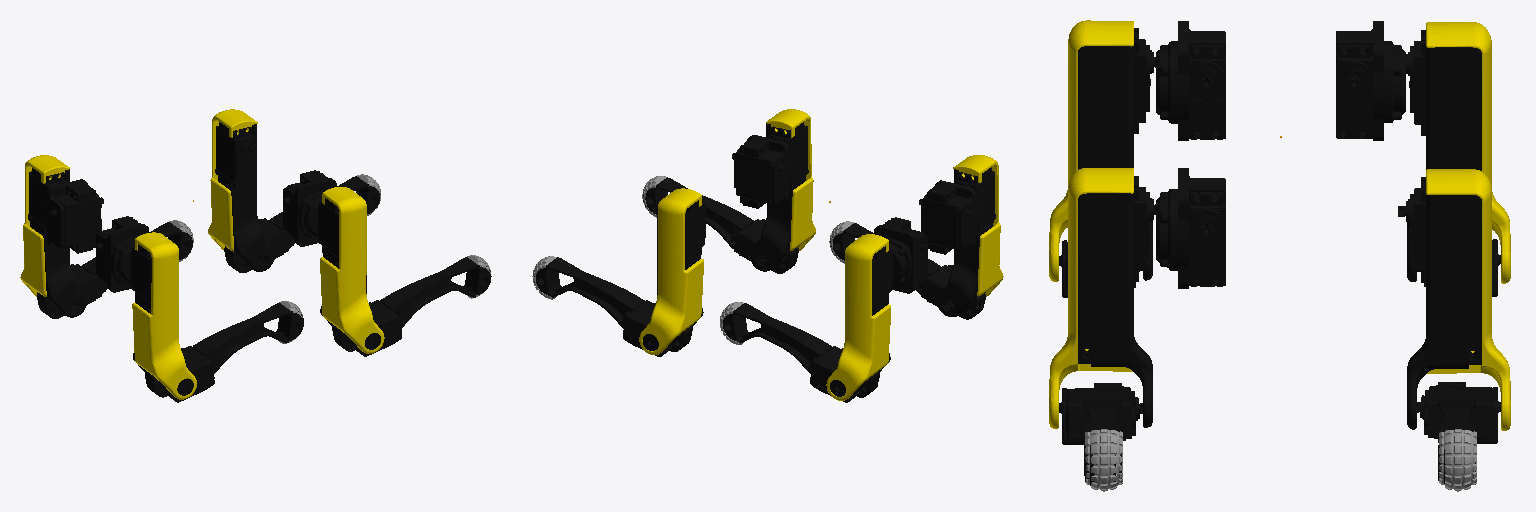
robot.urdf — SpotMicroAI:
<?xml version="1.0" encoding="utf-8"?>
<!-- =================================================================================== -->
<!-- |    This document was autogenerated by xacro from spotmicroai.urdf.xacro         | -->
<!-- |    EDITING THIS FILE BY HAND IS NOT RECOMMENDED                                 | -->
<!-- =================================================================================== -->
<robot name="SpotMicroAI">
  <material name="yellow">
    <color rgba="0.92 0.83 0.0 1"/>
  </material>
  <material name="black">
    <color rgba="0.1 0.1 0.1 1"/>
  </material>
  <material name="grey">
    <color rgba="0.6 0.6 0.6 1"/>
  </material>
  <material name="blue">
    <color rgba="0.0 0.0 0.8 1.0"/>
  </material>
  <material name="green">
    <color rgba="0.0 0.8 0.0 1.0"/>
  </material>
  <!-- Robot Body -->


  <link name="base">
    <visual>
      <origin rpy="0 0 0" xyz="0 0 0"/>
      <geometry>
        <box size="0.001 0.001 0.001"/>
      </geometry>
    </visual>
  </link>

  <joint name="floating_base" type="fixed">
    <origin rpy="0 0 0" xyz="0 0 0"/>
    <parent link="base"/>
    <child link="trunk"/>
  </joint>

  <link name="trunk">
  <visual>
      <geometry>
        <mesh filename="../meshes/body.dae"/>
      </geometry>
    </visual>
    <collision>
      <geometry>
        <mesh filename="../meshes/body.dae"/>
      </geometry>
    </collision>
    <inertial>
      <mass value="16.0"/>
      <inertia ixx="0.0168352186" ixy="0.0004636141" ixz="0.0002367952" iyy="0.0656071082" iyz="3.6671e-05" izz="0.0742720659"/>
    </inertial>
  </link>


  <link name="FL_hip">
   <visual>
      <geometry>
        <mesh filename="../meshes/front_right_hip.dae"/>
      </geometry>
    </visual>
    <collision>
      <geometry>
        <mesh filename="../meshes/front_right_hip.dae"/>
      </geometry>
    </collision>
    <inertial>
      <mass value="2.0"/>
      <inertia ixx="0.0168352186" ixy="0.0004636141" ixz="0.0002367952" iyy="0.0656071082" iyz="3.6671e-05" izz="0.0742720659"/>
    </inertial>
  </link>

  <link name="FL_thigh_cover">
    <visual>
      <geometry>
            <mesh filename="../meshes/larm_cover.dae" scale="0.001 0.001 0.001"/>
      </geometry>
      <origin rpy="0 0 3.1416" xyz="0.134 -0.04 -0.0095"/>
      <material name="yellow"/>
    </visual>
          <inertial>
      <mass value="0"/>
      <inertia ixx="0" ixy="0" ixz="0" iyy="0" iyz="0" izz="0"/>
    </inertial>
  </link>

  <link name="FL_thigh">
    <visual>
      <geometry>
            <mesh filename="../meshes/larm.dae" scale="0.001 0.001 0.001"/>
      </geometry>
      <origin rpy="0 0 3.1416" xyz="0.134 -0.04 -0.0095"/>
      <material name="black"/>
    </visual>
    <collision>
      <origin rpy="0.0 0.0 0.0" xyz="0.0 0.0 -0.050"/>
      <geometry>
        <box size="0.028 0.036 0.109"/>
      </geometry>
    </collision>
    <inertial>
      <mass value="0.15"/>
      <inertia ixx="0.005851561134" ixy="1.783284e-06" ixz="0.000328291374" iyy="0.005596155105" iyz="2.1430713e-05" izz="0.00107157026"/>
    </inertial>
  </link>

  <link name="FL_calf">
    <visual>
      <geometry>
         <mesh filename="../meshes/lfoot.dae" scale="0.001 0.001 0.001"/>
      </geometry>
      <origin rpy="0 0 3.1416 " xyz="0.1195 -0.04 0.099"/>
      <material name="black"/>
    </visual>
    <collision>
      <geometry>
        <box size="0.026 0.020 0.13"/>
      </geometry>
      <origin rpy="0.0 0.0 0.0" xyz="0.0 0.0 -0.050"/>
    </collision>
    <inertial>
      <mass value="0.1"/>
      <inertia ixx="0.002939186297" ixy="1.440899e-06" ixz="-0.00010535955" iyy="0.00295576935" iyz="-2.4397752e-05" izz="3.0273372e-05"/>
    </inertial>
  </link>

  <link name="FL_foot">
    <visual>
      <geometry>
            <mesh filename="../meshes/foot.dae" scale="0.001 0.001 0.001"/>
      </geometry>
      <origin rpy="0 0.40010 0" xyz="0 -0.01 0.015"/>
      <material name="grey"/>
    </visual>
    <collision>
      <geometry>
        <sphere radius="0.02"/>
      </geometry>
      <origin rpy="0 0 0" xyz="0 0 0"/>
    </collision>
    <inertial>
      <mass value="0.05"/>
      <inertia ixx="9.6e-06" ixy="0.0" ixz="0.0" iyy="9.6e-06" iyz="0.0" izz="9.6e-06"/>
    </inertial>
  </link>

  <joint name="FL_hip_joint" type="revolute">
    <parent link="trunk"/>
    <child link="FL_hip"/>
    <axis xyz="1 0 0"/>
    <origin rpy="0 0 0" xyz="0.093 0.0395 0"/>
    <limit effort="23.7" lower="-1.0471975512" upper="1.0471975512" velocity="30.1"/>
    <dynamics damping="0.0" friction="0.0"/>
  </joint>

  <joint name="FL_thigh_joint" type="revolute">
    <parent link="FL_hip"/>
    <child link="FL_thigh"/>
    <axis xyz="0 1 0"/>
    <origin rpy="0 0 0" xyz="0 0.055 0"/>
     <limit effort="23.7" lower="-0.663225115758" upper="2.96705972839" velocity="30.1"/>
    <dynamics damping="0.0" friction="0.0"/>
  </joint>

  <joint name="front_left_leg_cover_joint" type="fixed">
    <parent link="FL_thigh"/>
    <child link="FL_thigh_cover"/>
    <origin xyz="0 0 0"/>
  </joint>

  <joint name="FL_calf_joint" type="revolute">
    <parent link="FL_thigh"/>
    <child link="FL_calf"/>
    <axis xyz="0 1 0"/>
    <origin rpy="0 0 0" xyz="0.014 0 -0.109"/>
    <limit effort="23.7" lower="-2.72271363311" upper="-0.837758040957" velocity="30.1"/>
    <dynamics damping="0.0" friction="0.0"/>
  </joint>

  <joint name="FL_foot_fixed" type="fixed"  dont_collapse="true">
    <parent link="FL_calf"/>
    <child link="FL_foot"/>
    <origin xyz="0 0 -0.13"/>
  </joint>
  <link name="FR_hip">
    <visual>
      <geometry>
            <mesh filename="../meshes/rshoulder.dae" scale="0.001 0.001 0.001"/>
      </geometry>
      <origin rpy="0 0 3.1416" xyz="0.135 0.0938 -0.0205"/>
      <material name="black"/>
    </visual>
    <collision>
      <geometry>
        <box size="0.044 0.038 0.07"/>
      </geometry>
      <origin rpy="0 0 0" xyz="0 0 0"/>
    </collision>
    <inertial>
      <mass value="0.10"/>
      <inertia ixx="0.000374268192" ixy="-3.6844422e-05" ixz="-9.86754e-07" iyy="0.000635923669" iyz="1.172894e-06" izz="0.000457647394"/>
    </inertial>
  </link>

  <link name="FR_thigh_cover">
    <visual>
      <geometry>
            <mesh filename="../meshes/rarm_cover.dae" scale="0.001 0.001 0.001"/>
      </geometry>
      <origin rpy="0 0 3.1416" xyz="0.134 0.149 -0.0095"/>
      <material name="yellow"/>
    </visual>
          <inertial>
      <mass value="0"/>
      <inertia ixx="0" ixy="0" ixz="0" iyy="0" iyz="0" izz="0"/>
    </inertial>
  </link>

  <link name="FR_thigh">
    <visual>
      <geometry>
        <mesh filename="../meshes/rarm.dae" scale="0.001 0.001 0.001"/>
      </geometry>
      <origin rpy="0 0 3.1416" xyz="0.134 0.149 -0.0095"/>
      <material name="black"/>
    </visual>
    <collision>
      <origin rpy="0.0 0.0 0.0" xyz="0.0 0.0 -0.050"/>
      <geometry>
        <box size="0.028 0.036 0.109"/>
      </geometry>
    </collision>
    <inertial>
      <mass value="0.15"/>
      <inertia ixx="0.005851561134" ixy="-1.783284e-06" ixz="0.000328291374" iyy="0.005596155105" iyz="-2.1430713e-05" izz="0.00107157026"/>
    </inertial>
  </link>

  <link name="FR_calf">
    <visual>
      <geometry>
            <mesh filename="../meshes/rfoot.dae" scale="0.001 0.001 0.001"/>
      </geometry>
      <origin rpy="0 0 3.1416" xyz="0.1195 0.149 0.099"/>
      <material name="black"/>
    </visual>
    <collision>
      <geometry>
        <box size="0.026 0.020 0.13"/>
      </geometry>
      <origin rpy="0.0 0.0 0.0" xyz="0.0 0.0 -0.050"/>
    </collision>
    <inertial>
      <mass value="0.1"/>
      <inertia ixx="0.002939186297" ixy="1.440899e-06" ixz="-0.00010535955" iyy="0.00295576935" iyz="-2.4397752e-05" izz="3.0273372e-05"/>
    </inertial>
  </link>

  <link name="FR_foot">
    <visual>
      <geometry>
            <mesh filename="../meshes/foot.dae" scale="0.001 0.001 0.001"/>
      </geometry>
      <origin rpy="0 0.40010 0" xyz="0 -0.01 0.015"/>
      <material name="grey"/>
    </visual>
    <collision>
      <geometry>
        <sphere radius="0.02"/>
      </geometry>
      <origin rpy="0 0 0" xyz="0 0 0"/>
    </collision>
    <inertial>
      <mass value="0.05"/>
      <inertia ixx="9.6e-06" ixy="0.0" ixz="0.0" iyy="9.6e-06" iyz="0.0" izz="9.6e-06"/>
    </inertial>
  </link>

  <joint name="FR_hip_joint" type="revolute">
    <parent link="trunk"/>
    <child link="FR_hip"/>
    <axis xyz="1 0 0"/>
    <origin rpy="0 0 0" xyz="0.093 -0.0395 0"/>
    <limit effort="23.7" lower="-1.0471975512" upper="1.0471975512" velocity="30.1"/>
    <dynamics damping="0.0" friction="0.0"/>
  </joint>

  <joint name="FR_thigh_joint" type="revolute">
    <parent link="FR_hip"/>
    <child link="FR_thigh"/>
    <axis xyz="0 1 0"/>
    <origin rpy="0 0 0" xyz="0 -0.055 0"/>
     <limit effort="23.7" lower="-0.663225115758" upper="2.96705972839" velocity="30.1"/>
    <dynamics damping="0.0" friction="0.0"/>
  </joint>

  <joint name="front_right_leg_cover_joint" type="fixed">
    <parent link="FR_thigh"/>
    <child link="FR_thigh_cover"/>
    <origin xyz="0 0 0"/>
  </joint>
  <joint name="FR_calf_joint" type="revolute">
    <parent link="FR_thigh"/>
    <child link="FR_calf"/>
    <axis xyz="0 1 0"/>
    <origin rpy="0 0 0" xyz="0.014 0 -0.109"/>
    <limit effort="23.7" lower="-2.72271363311" upper="-0.837758040957" velocity="30.1"/>
    <dynamics damping="0.0" friction="0.0"/>
  </joint>
  <joint name="FR_foot_fixed" type="fixed"  dont_collapse="true">
    <parent link="FR_calf"/>
    <child link="FR_foot"/>
    <origin xyz="0 0 -0.13"/>
  </joint>

  <link name="RL_hip">
    <visual>
      <geometry>
                <mesh filename="../meshes/lshoulder.dae" scale="0.001 0.001 0.001"/>
      </geometry>
      <origin rpy="0 0 3.1416" xyz="0.135 0.0163 -0.0195"/>
      <material name="black"/>
    </visual>
    <collision>
      <geometry>
        <box size="0.044 0.038 0.07"/>
      </geometry>
      <origin rpy="0 0 0" xyz="0 0 0"/>
    </collision>
    <inertial>
      <mass value="0.10"/>
      <inertia ixx="0.000374268192" ixy="-3.6844422e-05" ixz="9.86754e-07" iyy="0.000635923669" iyz="-1.172894e-06" izz="0.000457647394"/>
    </inertial>
  </link>

  <link name="RL_thigh_cover">
    <visual>
      <geometry>
        <mesh filename="../meshes/larm_cover.dae" scale="0.001 0.001 0.001"/>
      </geometry>
      <origin rpy="0 0 3.1416" xyz="0.134 -0.04 -0.0095"/>
      <material name="yellow"/>
    </visual>
    <inertial>
      <mass value="0"/>
      <inertia ixx="0" ixy="0" ixz="0" iyy="0" iyz="0" izz="0"/>
    </inertial>
  </link>

  <link name="RL_thigh">
    <visual>
      <geometry>
            <mesh filename="../meshes/larm.dae" scale="0.001 0.001 0.001"/>
      </geometry>
      <origin rpy="0 0 3.1416" xyz="0.134 -0.04 -0.0095"/>
      <material name="black"/>
    </visual>
    <collision>
      <origin rpy="0.0 0.0 0.0" xyz="0.0 0.0 -0.050"/>
      <geometry>
        <box size="0.028 0.036 0.109"/>
      </geometry>
    </collision>
    <inertial>
      <mass value="0.15"/>
      <inertia ixx="0.005851561134" ixy="1.783284e-06" ixz="0.000328291374" iyy="0.005596155105" iyz="2.1430713e-05" izz="0.00107157026"/>
    </inertial>
  </link>

  <link name="RL_calf">
    <visual>
      <geometry>
           <mesh filename="../meshes/lfoot.dae" scale="0.001 0.001 0.001"/>
      </geometry>
      <origin rpy="0 0 3.1416 " xyz="0.1195 -0.04 0.099"/>
      <material name="black"/>
    </visual>
    <collision>
      <geometry>
        <box size="0.026 0.020 0.13"/>
      </geometry>
      <origin rpy="0.0 0.0 0.0" xyz="0.0 0.0 -0.050"/>
    </collision>
    <inertial>
      <mass value="0.1"/>
      <inertia ixx="0.002939186297" ixy="1.440899e-06" ixz="-0.00010535955" iyy="0.00295576935" iyz="-2.4397752e-05" izz="3.0273372e-05"/>
    </inertial>
  </link>

  <link name="RL_foot">
    <visual>
      <geometry>
                <mesh filename="../meshes/foot.dae" scale="0.001 0.001 0.001"/>
      </geometry>
      <origin rpy="0 0.40010 0" xyz="0 -0.01 0.015"/>
      <material name="grey"/>
    </visual>
    <collision>
      <geometry>
        <sphere radius="0.02"/>
      </geometry>
      <origin rpy="0 0 0" xyz="0 0 0"/>
    </collision>
    <inertial>
      <mass value="0.05"/>
      <inertia ixx="9.6e-06" ixy="0.0" ixz="0.0" iyy="9.6e-06" iyz="0.0" izz="9.6e-06"/>
    </inertial>
  </link>

  <joint name="RL_hip_joint" type="revolute">
    <parent link="trunk"/>
    <child link="RL_hip"/>
    <axis xyz="1 0 0"/>
    <origin rpy="0 0 0" xyz="-0.093 0.0395 0"/>
    <limit effort="23.7" lower="-1.0471975512" upper="1.0471975512" velocity="30.1"/>
    <dynamics damping="0.0" friction="0.0"/>
  </joint>
  <joint name="RL_thigh_joint" type="revolute">
    <parent link="RL_hip"/>
    <child link="RL_thigh"/>
    <axis xyz="0 1 0"/>
    <origin rpy="0 0 0" xyz="0 0.055 0"/>
     <limit effort="23.7" lower="-0.663225115758" upper="2.96705972839" velocity="30.1"/>
    <dynamics damping="0.0" friction="0.0"/>
  </joint>
  <joint name="rear_left_leg_cover_joint" type="fixed">
    <parent link="RL_thigh"/>
    <child link="RL_thigh_cover"/>
    <origin xyz="0 0 0"/>
  </joint>
  <joint name="RL_calf_joint" type="revolute">
    <parent link="RL_thigh"/>
    <child link="RL_calf"/>
    <axis xyz="0 1 0"/>
    <origin rpy="0 0 0" xyz="0.014 0 -0.109"/>
    <limit effort="23.7" lower="-2.72271363311" upper="-0.837758040957" velocity="30.1"/>
    <dynamics damping="0.0" friction="0.0"/>
  </joint>
  <joint name="RL_foot_fixed" type="fixed" dont_collapse="true">
    <parent link="RL_calf"/>
    <child link="RL_foot"/>
    <origin xyz="0 0 -0.13"/>
  </joint>
  <link name="RR_hip">
    <visual>
      <geometry>
        <mesh filename="../meshes/rshoulder.dae" scale="0.001 0.001 0.001"/>
      </geometry>
      <origin rpy="0 0 3.1416" xyz="0.135 0.0938 -0.0205"/>
      <material name="black"/>
    </visual>
    <collision>
      <geometry>
        <box size="0.044 0.038 0.07"/>
      </geometry>
      <origin rpy="0 0 0" xyz="0 0 0"/>
    </collision>
    <inertial>
      <mass value="0.10"/>
      <inertia ixx="0.000374268192" ixy="3.6844422e-05" ixz="9.86754e-07" iyy="0.000635923669" iyz="1.172894e-06" izz="0.000457647394"/>    </inertial>
  </link>

  <link name="RR_thigh_cover">
    <visual>
      <geometry>
         <mesh filename="../meshes/rarm_cover.dae" scale="0.001 0.001 0.001"/>
      </geometry>
      <origin rpy="0 0 3.1416" xyz="0.134 0.149 -0.0095"/>
      <material name="yellow"/>
    </visual>
          <inertial>
      <mass value="0"/>
      <inertia ixx="0" ixy="0" ixz="0" iyy="0" iyz="0" izz="0"/>
    </inertial>
  </link>

  <link name="RR_thigh">
    <visual>
      <geometry>
            <mesh filename="../meshes/rarm.dae" scale="0.001 0.001 0.001"/>
      </geometry>
      <origin rpy="0 0 3.1416" xyz="0.134 0.149 -0.0095"/>
      <material name="black"/>
    </visual>
    <collision>
      <origin rpy="0.0 0.0 0.0" xyz="0.0 0.0 -0.050"/>
      <geometry>
        <box size="0.028 0.036 0.109"/>
      </geometry>
    </collision>
    <inertial>
      <mass value="0.15"/>
      <inertia ixx="0.005851561134" ixy="-1.783284e-06" ixz="0.000328291374" iyy="0.005596155105" iyz="-2.1430713e-05" izz="0.00107157026"/>
    </inertial>
  </link>

  <link name="RR_calf">
    <visual>
      <geometry>
          <mesh filename="../meshes/rfoot.dae" scale="0.001 0.001 0.001"/>
      </geometry>
      <origin rpy="0 0 3.1416" xyz="0.1195 0.149 0.099"/>
      <material name="black"/>
    </visual>
    <collision>
      <geometry>
        <box size="0.026 0.020 0.13"/>
      </geometry>
      <origin rpy="0.0 0.0 0.0" xyz="0.0 0.0 -0.050"/>
    </collision>
    <inertial>
      <mass value="0.1"/>
      <inertia ixx="0.002939186297" ixy="1.440899e-06" ixz="-0.00010535955" iyy="0.00295576935" iyz="-2.4397752e-05" izz="3.0273372e-05"/>
    </inertial>
  </link>

  <link name="RR_foot">
    <visual>
      <geometry>
            <mesh filename="../meshes/foot.dae" scale="0.001 0.001 0.001"/>
      </geometry>
      <origin rpy="0 0.40010 0" xyz="0 -0.01 0.015"/>
      <material name="grey"/>
    </visual>
    <collision>
      <geometry>
        <sphere radius="0.02"/>
      </geometry>
      <origin rpy="0 0 0" xyz="0 0 0"/>
    </collision>
    <inertial>
      <mass value="0.05"/>
      <inertia ixx="9.6e-06" ixy="0.0" ixz="0.0" iyy="9.6e-06" iyz="0.0" izz="9.6e-06"/>
    </inertial>
  </link>

  <joint name="RR_hip_joint" type="revolute">
    <parent link="trunk"/>
    <child link="RR_hip"/>
    <axis xyz="1 0 0"/>
    <origin rpy="0 0 0" xyz="-0.093 -0.0395 0"/>
    <limit effort="23.7" lower="-1.0471975512" upper="1.0471975512" velocity="30.1"/>
    <dynamics damping="0.0" friction="0.0"/>
  </joint>

  <joint name="RR_thigh_joint" type="revolute">
    <parent link="RR_hip"/>
    <child link="RR_thigh"/>
    <axis xyz="0 1 0"/>
    <origin rpy="0 0 0" xyz="0 -0.055 0"/>
     <limit effort="23.7" lower="-0.663225115758" upper="2.96705972839" velocity="30.1"/>
    <dynamics damping="0.0" friction="0.0"/>
  </joint>
  <joint name="rear_right_leg_cover_joint" type="fixed">
    <parent link="RR_thigh"/>
    <child link="RR_thigh_cover"/>
    <origin xyz="0 0 0"/>
  </joint>
  <joint name="RR_calf_joint" type="revolute">
    <parent link="RR_thigh"/>
    <child link="RR_calf"/>
    <axis xyz="0 1 0"/>
    <origin rpy="0 0 0" xyz="0.014 0 -0.109"/>
    <limit effort="23.7" lower="-2.72271363311" upper="-0.837758040957" velocity="30.1"/>
    <dynamics damping="0.0" friction="0.0"/>
  </joint>

  <joint name="RR_foot_fixed" type="fixed"  dont_collapse="true">
    <parent link="RR_calf"/>
    <child link="RR_foot"/>
    <origin xyz="0 0 -0.13"/>
  </joint>
</robot>

--- Facts derived from the render (not from the file) ---
Views: 3 orthographic renders of the robot side by side, from view 1: azimuth 30°, elevation 25°; view 2: azimuth 150°, elevation 25°; view 3: azimuth 270°, elevation 25°.
Robot: SpotMicroAI — 22 links, 21 joints (12 revolute, 9 fixed); root link base; default pose: joints at zero except 4 at the middle of their limits (FL_calf_joint = -1.78, FR_calf_joint = -1.78, RL_calf_joint = -1.78, RR_calf_joint = -1.78).
Links seen in each view (by area): view 1: FR_thigh_cover, RR_thigh_cover, FL_thigh, RR_calf, FR_calf, RL_hip, RL_thigh, RR_hip, FR_hip, RL_thigh_cover, FL_thigh_cover, RL_calf (+3 smaller); view 2: RL_thigh_cover, FL_thigh_cover, FL_calf, RL_calf, FR_hip, RR_hip, FR_thigh, RR_thigh, FR_calf, RL_hip, RR_thigh_cover, FR_thigh_cover (+3 smaller); view 3: FL_thigh, FR_thigh, RR_thigh, RL_thigh, FR_hip, RR_hip, RL_hip, FL_thigh_cover, FR_thigh_cover, FR_calf, FL_calf, RL_thigh_cover (+3 smaller).
Link boxes in pixels (x1,y1,x2,y2): FR_thigh_cover: [320, 187, 384, 353]; RR_thigh_cover: [132, 232, 196, 399]; FL_thigh: [215, 122, 274, 271]; RR_calf: [145, 303, 303, 402]; FR_calf: [332, 257, 491, 356]; RL_hip: [44, 179, 103, 253]; RL_thigh: [28, 168, 86, 317]; RR_hip: [96, 216, 149, 292]; FR_hip: [283, 170, 336, 246]; RL_thigh_cover: [20, 155, 69, 296]; FL_thigh_cover: [208, 109, 257, 251]; RL_calf: [37, 222, 192, 318]; RL_thigh_cover: [826, 234, 890, 400]; FL_thigh_cover: [639, 188, 703, 354]; FL_calf: [534, 257, 692, 356]; RL_calf: [721, 303, 879, 402]; FR_hip: [732, 135, 791, 208]; RR_hip: [919, 180, 978, 254]; FR_thigh: [750, 122, 808, 271]; RR_thigh: [937, 167, 995, 316]; FR_calf: [643, 177, 798, 273]; RL_hip: [874, 217, 927, 293]; RR_thigh_cover: [953, 155, 1003, 296]; FR_thigh_cover: [766, 109, 815, 250]; FL_thigh: [1398, 177, 1481, 429]; FR_thigh: [1078, 176, 1155, 427]; RR_thigh: [1078, 28, 1155, 280]; RL_thigh: [1406, 30, 1481, 281]; FR_hip: [1156, 168, 1225, 288]; RR_hip: [1156, 21, 1225, 140]; RL_hip: [1336, 21, 1405, 140]; FL_thigh_cover: [1426, 169, 1510, 430]; FR_thigh_cover: [1049, 168, 1133, 428]; FR_calf: [1059, 383, 1142, 485]; FL_calf: [1417, 382, 1500, 483]; RL_thigh_cover: [1426, 22, 1510, 283].
Size in the robot's own frame: 0.3578 by 0.2464 by 0.1487 metres.
19 mesh visuals loaded from 11 distinct referenced files (9 Collada DAE); not drawn: 2 (reference not matched to a file when rendering).